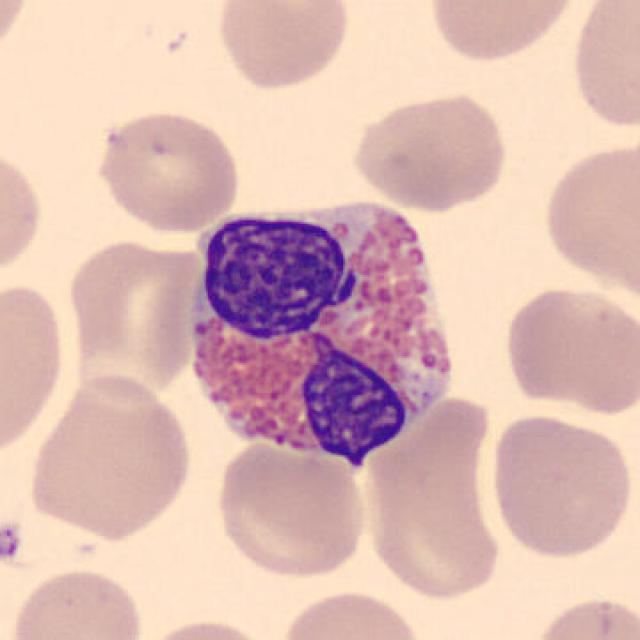eosinophil: (186, 193, 466, 456)
rbc: (376, 398, 504, 612), (66, 231, 204, 416), (42, 371, 192, 540), (219, 432, 367, 577), (496, 413, 632, 568), (100, 110, 244, 238), (356, 100, 509, 213), (508, 293, 639, 421), (542, 145, 640, 298), (210, 0, 356, 92), (11, 561, 147, 640), (0, 280, 64, 444), (426, 0, 572, 63), (574, 0, 640, 138), (288, 591, 422, 640), (0, 159, 46, 268), (551, 591, 640, 640), (168, 621, 250, 640)
